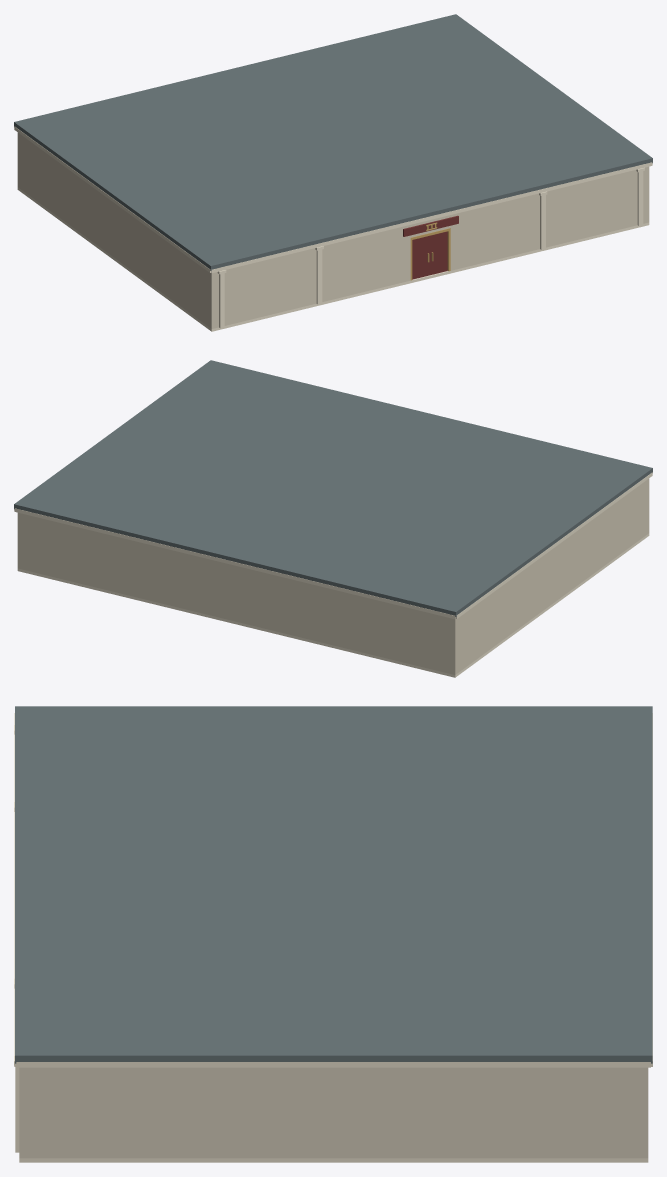
The picture shows the model from 3 angles, top to bottom: view 1: azimuth 30°, elevation 25°; view 2: azimuth 150°, elevation 25°; view 3: azimuth 270°, elevation 25°; orthographic projection. The views are drawn at different scales.
Parts seen in each view (by area): view 1: Bank_Roof, Bank_Wall_Left, Bank_Wall_Front_Left, Bank_Wall_Front_Right, Bank_Floor, Bank_Cornice_Front, Bank_Cornice_Left, Bank_Door_L, Bank_Door_R, Bank_Sign_Plaque; view 2: Bank_Roof, Bank_Wall_Rear, Bank_Wall_Left, Bank_Floor, Bank_Cornice_Rear, Bank_Cornice_Left; view 3: Bank_Roof, Bank_Wall_Right, Bank_Cornice_Right, Bank_Floor.
Part boxes in pixels (x1,y1,x2,y2): Bank_Roof: (14, 14, 652, 270); Bank_Wall_Left: (17, 132, 215, 328); Bank_Wall_Front_Left: (215, 225, 410, 327); Bank_Wall_Front_Right: (450, 167, 645, 270); Bank_Floor: (17, 187, 649, 331); Bank_Cornice_Front: (211, 162, 652, 272); Bank_Cornice_Left: (14, 126, 211, 272); Bank_Door_L: (412, 235, 429, 279); Bank_Door_R: (430, 231, 447, 275); Bank_Sign_Plaque: (403, 215, 458, 236); Bank_Roof: (14, 360, 652, 616); Bank_Wall_Rear: (21, 513, 451, 673); Bank_Wall_Left: (451, 478, 649, 674); Bank_Floor: (17, 533, 649, 677); Bank_Cornice_Rear: (14, 508, 455, 618); Bank_Cornice_Left: (455, 472, 652, 618); Bank_Roof: (15, 706, 652, 1063); Bank_Wall_Right: (19, 1067, 648, 1158); Bank_Cornice_Right: (16, 1062, 650, 1067); Bank_Floor: (19, 1158, 648, 1162).
Bounding box in the file's own units: 35 × 5.08 × 27.02.
